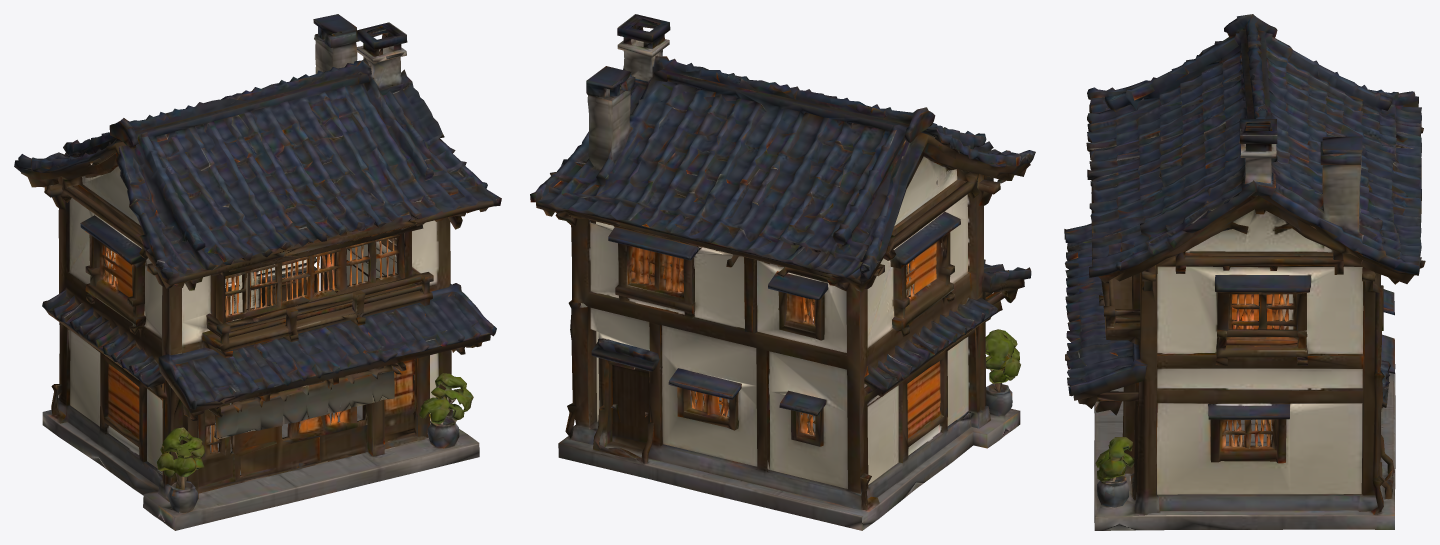
The picture shows the model from 3 angles, left to right: view 1: azimuth 30°, elevation 25°; view 2: azimuth 150°, elevation 25°; view 3: azimuth 270°, elevation 25°; orthographic projection. The views are drawn at different scales.
Parts seen in each view (by area): view 1: compact__shop_2__native_mobile; view 2: compact__shop_2__native_mobile; view 3: compact__shop_2__native_mobile.
Part boxes in pixels (left/top/right/bottom): compact__shop_2__native_mobile: left=14, top=14, right=501, bottom=530; compact__shop_2__native_mobile: left=530, top=14, right=1035, bottom=530; compact__shop_2__native_mobile: left=1064, top=14, right=1425, bottom=530.
Size of the model in its own units: 0.948 by 1 by 0.8313.
Materials: 1 (1 with a texture image).
